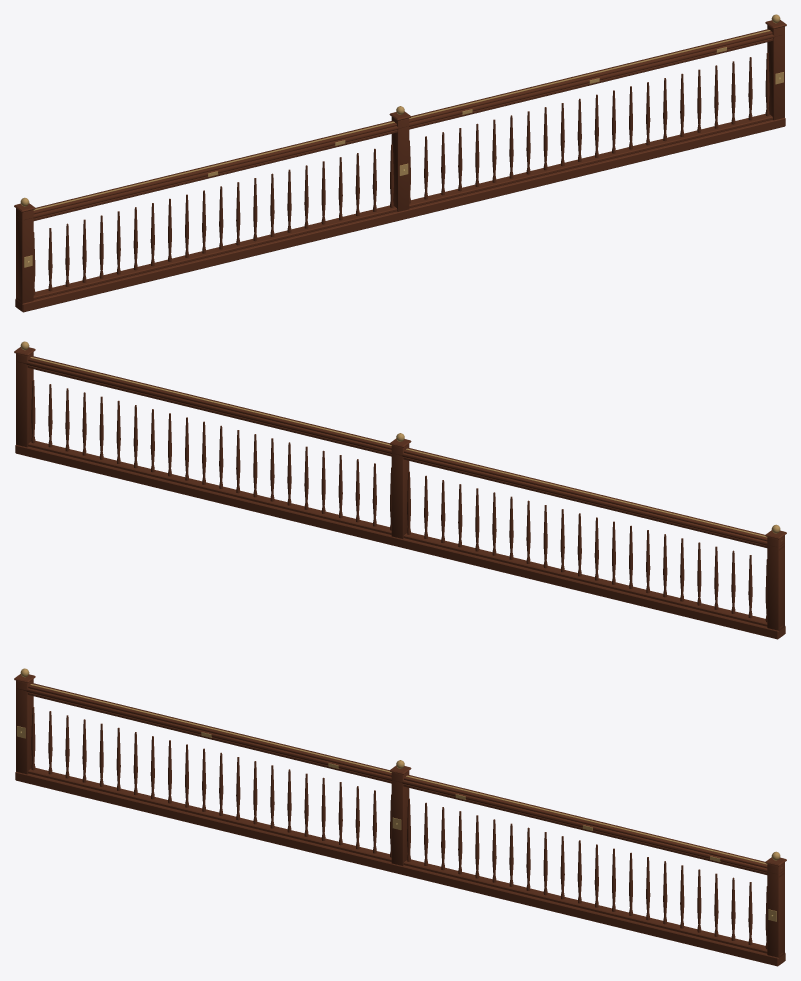
File: balcony_rail.glb
3 views of the same model, one above another, from view 1: azimuth 30°, elevation 25°; view 2: azimuth 150°, elevation 25°; view 3: azimuth 330°, elevation 25° (orthographic).
Visible parts, largest first — view 1: rail_main; view 2: rail_main; view 3: rail_main.
Part boxes in pixels (x1=…): rail_main: x1=14, y1=14, x2=786, y2=312; rail_main: x1=14, y1=341, x2=786, y2=639; rail_main: x1=14, y1=668, x2=786, y2=966.
Bounding box in the file's own units: 9.03 × 1.25 × 0.17.
